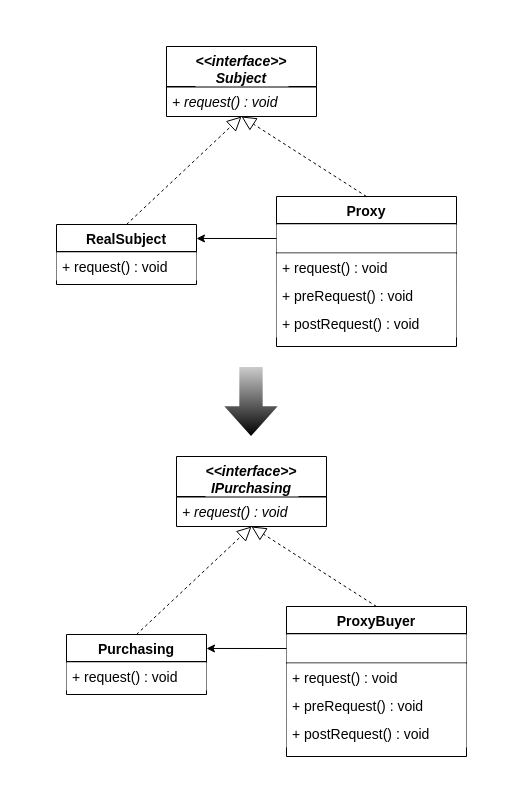
Image size: 523x803. Some labels were removed from this diagram. The shapes that lost their labels are listed below. From the top down, each one's centre as x and y in pixels, then its label:
At [366,238]: "- realSubject: RealSubject".
At [376,648]: "- purchasing : Purchasing".
